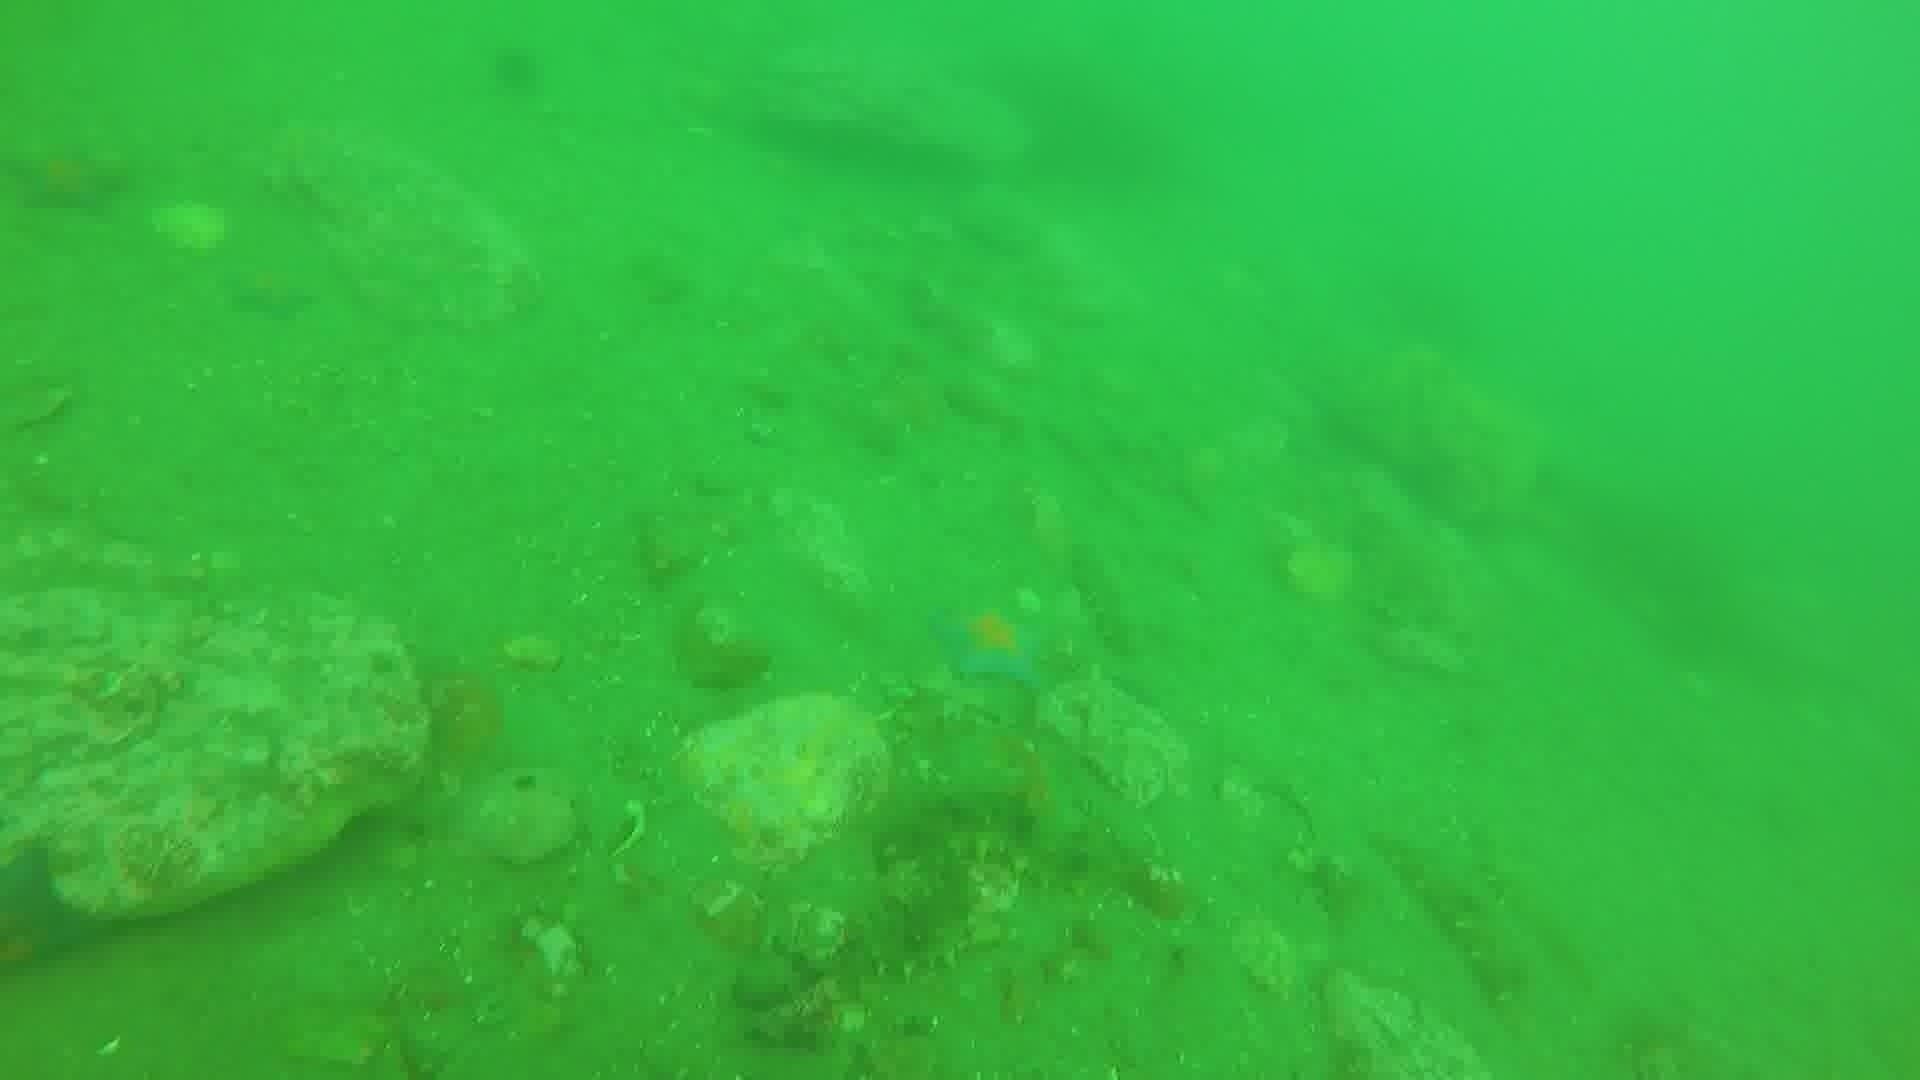echinus: (483, 40, 549, 99)
holothurian: (1369, 822, 1538, 1007), (870, 781, 1095, 893), (851, 852, 986, 985), (1065, 541, 1146, 662)
starfish: (0, 837, 98, 986), (928, 593, 1058, 694), (5, 135, 132, 222), (218, 253, 322, 326)
